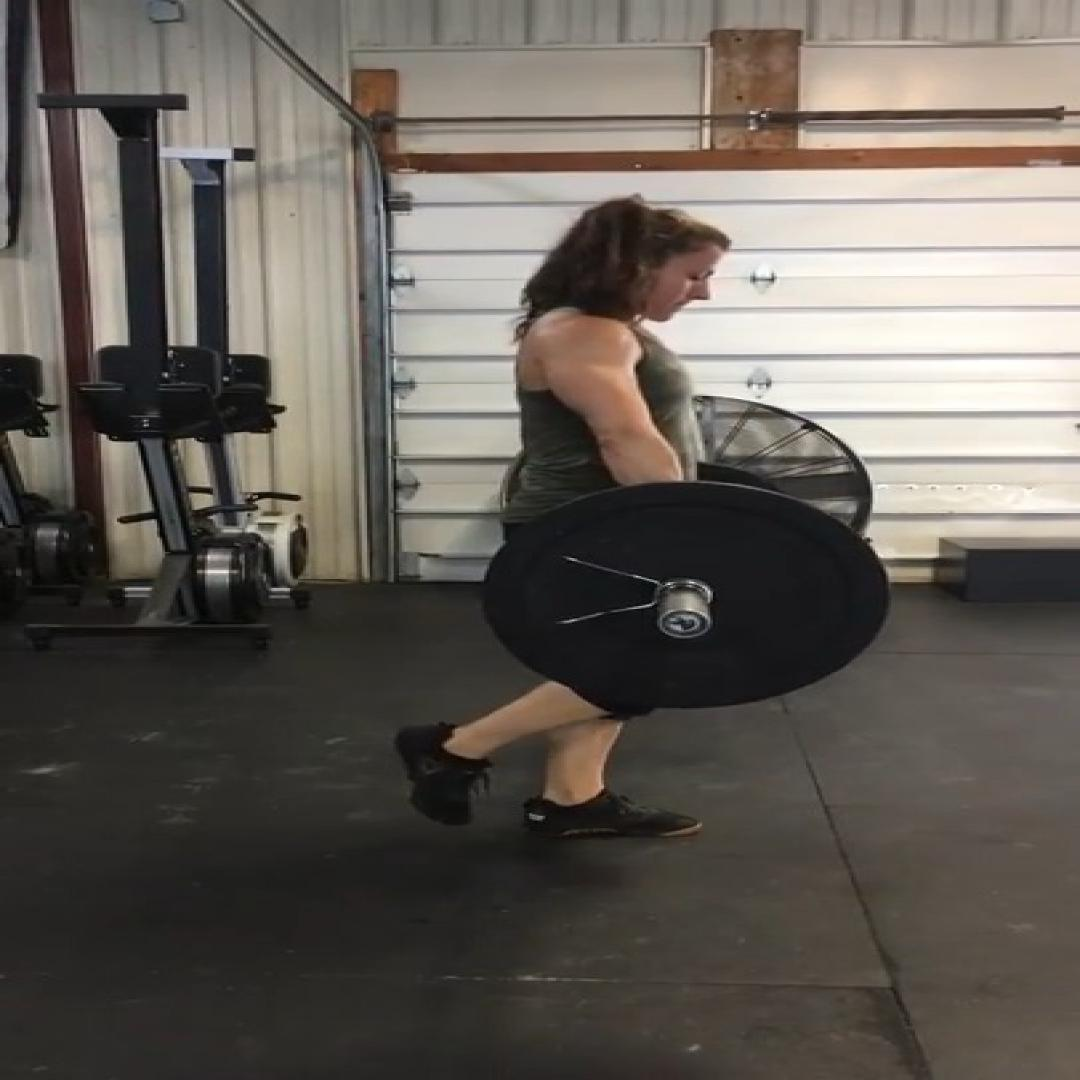Bar: (654, 607, 713, 639)
Barbell: (479, 480, 888, 710)
